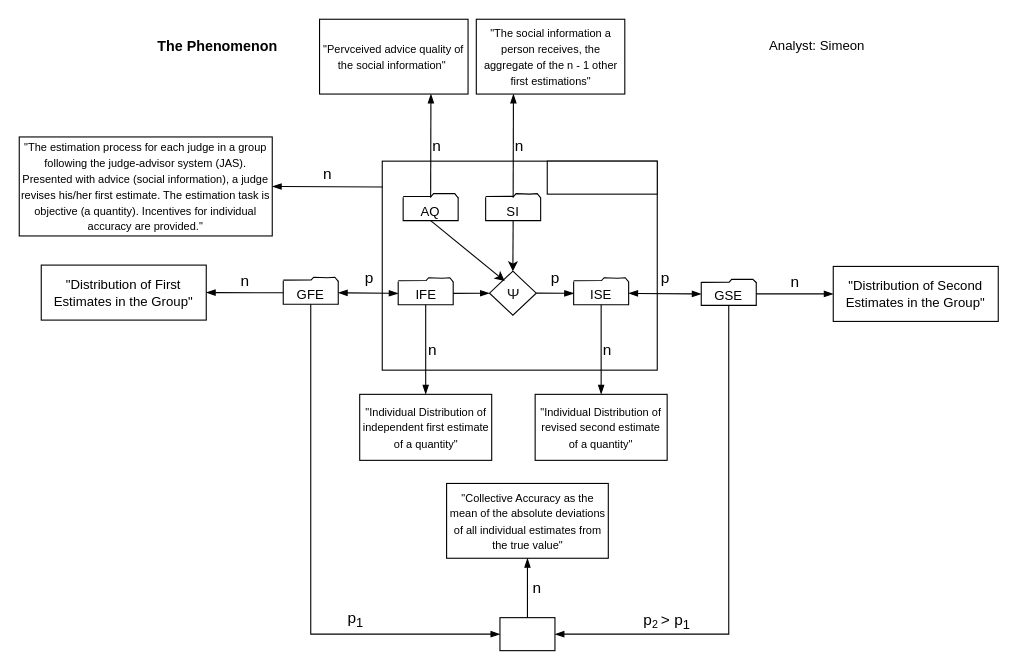
Some shapes in this 1018 by 670 pixel diagram are drawn without their labels. Here are the shapes that lost their labels. From the top down, the centre of each, then its label:
At (601,177): "JAS-Estimation".
At (527,634): "ACC".
